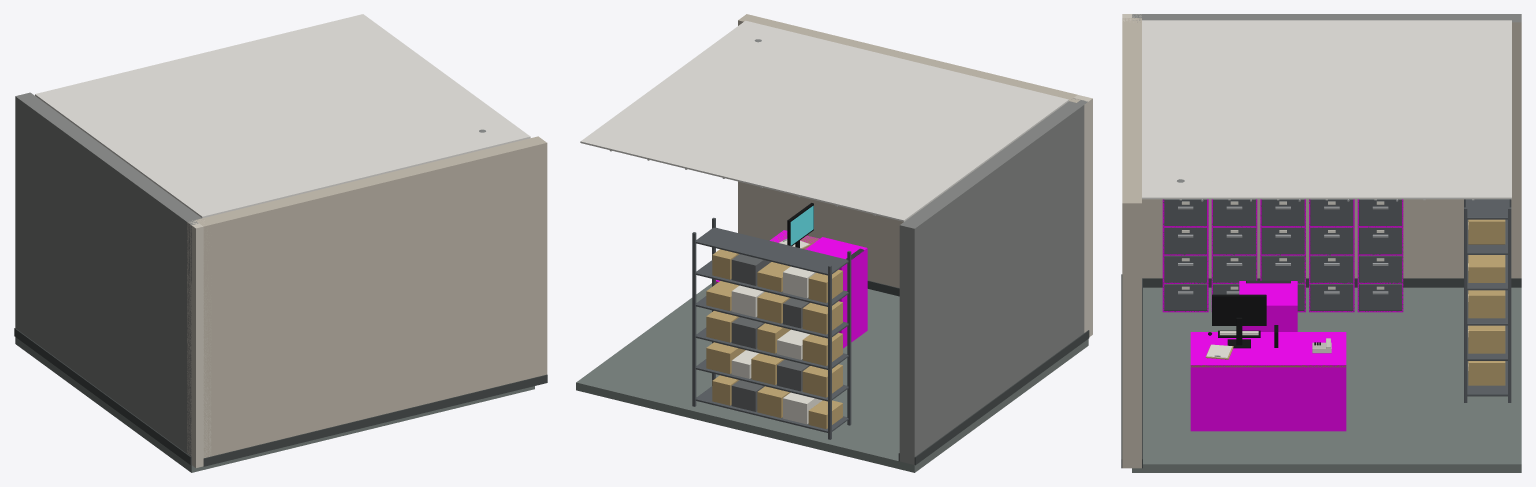
The model's file is ENV_RecordsOffice.glb.
3 renders of one model, left to right at view 1: azimuth 30°, elevation 25°; view 2: azimuth 150°, elevation 25°; view 3: azimuth 270°, elevation 25°, orthographic. The views are drawn at different scales.
Parts seen in each view (by area): view 1: ENV_RecordsOffice_Architecture, ENV_RecordsOffice_Ceiling, ENV_RecordsOffice_Posts; view 2: ENV_RecordsOffice_Architecture, ENV_RecordsOffice_Ceiling, PROP_Shelving_Archive_Mesh, PROP_Chair_Office_COL-colonly.002, ENV_RecordsOffice_Posts, PROP_Terminal_EHR_Screen.002; view 3: ENV_RecordsOffice_Ceiling, ENV_RecordsOffice_Architecture, PROP_Desk_Clinical_COL-colonly.002, PROP_Shelving_Archive_Mesh, PROP_Cabinet_Filing_4Drawer_Mesh.005, PROP_Cabinet_Filing_4Drawer_Mesh.006, PROP_Cabinet_Filing_4Drawer_Mesh.002, PROP_Cabinet_Filing_4Drawer_Mesh.003, PROP_Cabinet_Filing_4Drawer_Mesh.004, PROP_Terminal_EHR_Mesh.002, PROP_Chair_Office_COL-colonly.002, PROP_Cabinet_Filing_4Drawer_COL-colonly.002 (+4 smaller).
Part boxes in pixels (<box>): ENV_RecordsOffice_Architecture: <box>14,92,547,472</box>; ENV_RecordsOffice_Ceiling: <box>35,14,530,218</box>; ENV_RecordsOffice_Posts: <box>187,219,211,467</box>; ENV_RecordsOffice_Architecture: <box>576,14,1089,472</box>; ENV_RecordsOffice_Ceiling: <box>580,20,1068,221</box>; PROP_Shelving_Archive_Mesh: <box>692,217,851,439</box>; PROP_Chair_Office_COL-colonly.002: <box>805,237,867,348</box>; ENV_RecordsOffice_Posts: <box>1074,95,1092,336</box>; PROP_Terminal_EHR_Screen.002: <box>790,205,813,245</box>; ENV_RecordsOffice_Ceiling: <box>1142,20,1511,200</box>; ENV_RecordsOffice_Architecture: <box>1121,14,1521,472</box>; PROP_Desk_Clinical_COL-colonly.002: <box>1190,332,1346,431</box>; PROP_Shelving_Archive_Mesh: <box>1464,199,1511,402</box>; PROP_Cabinet_Filing_4Drawer_Mesh.005: <box>1309,199,1354,311</box>; PROP_Cabinet_Filing_4Drawer_Mesh.006: <box>1358,199,1403,311</box>; PROP_Cabinet_Filing_4Drawer_Mesh.002: <box>1163,199,1208,311</box>; PROP_Cabinet_Filing_4Drawer_Mesh.003: <box>1212,199,1256,294</box>; PROP_Cabinet_Filing_4Drawer_Mesh.004: <box>1260,199,1305,311</box>; PROP_Terminal_EHR_Mesh.002: <box>1208,294,1278,348</box>; PROP_Chair_Office_COL-colonly.002: <box>1239,281,1297,331</box>; PROP_Cabinet_Filing_4Drawer_COL-colonly.002: <box>1162,199,1208,312</box>.
Size of what is drawn, in the model's own units: 4.61 by 3.13 by 4.11.
